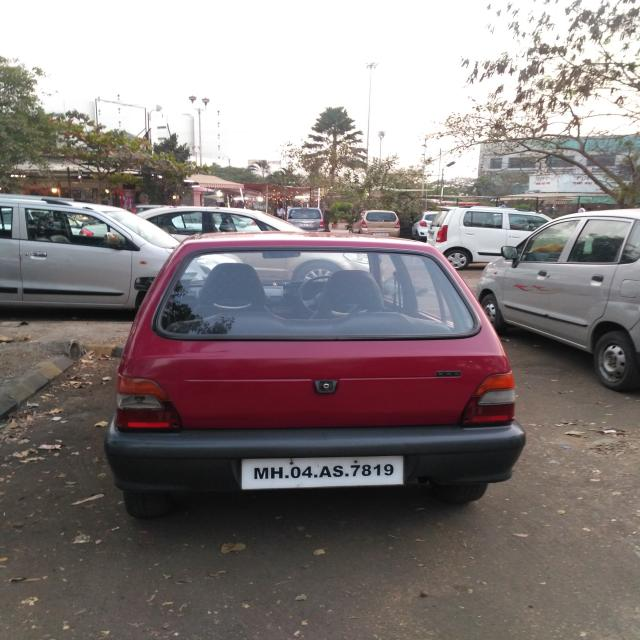Number-Plate: (247, 456, 401, 485)
